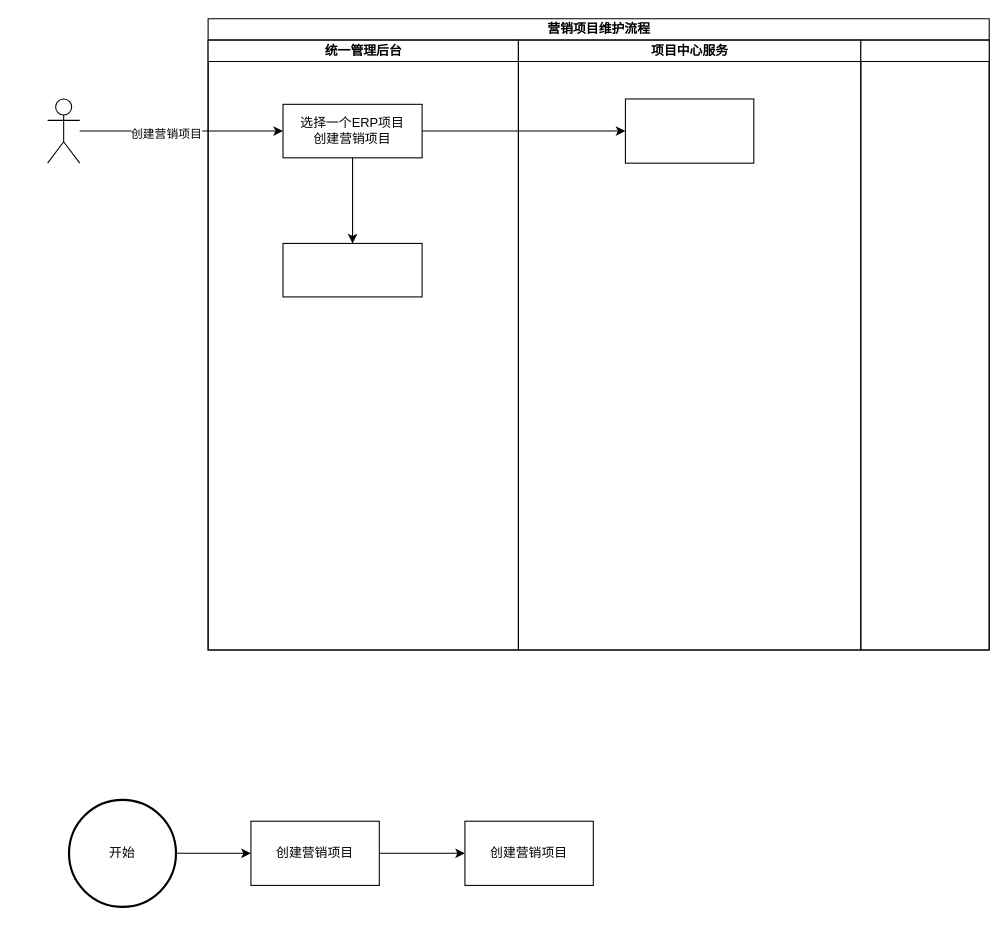
The diagram is 1008 pixels wide and 927 high, and some of its shapes have lost their labels. Here are the shapes that lost their labels. From the top down, the centre of each, then its label:
At pixel 63 130: "股份系统管理员".
At pixel 689 130: "从中间表中获取此项目数据、组织关系、数据字典".
At pixel 352 269: "选择好项目数据范围 分期-业态-楼栋".
At pixel 924 344: "Lane 3".
